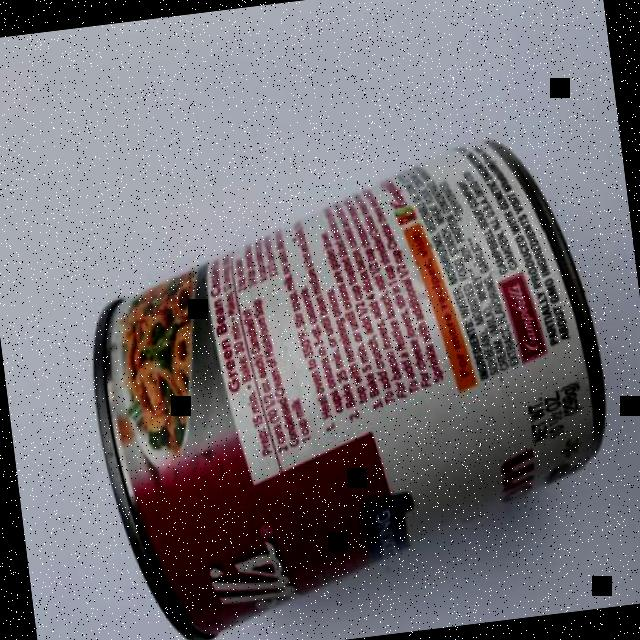can: (62, 117, 639, 640)
